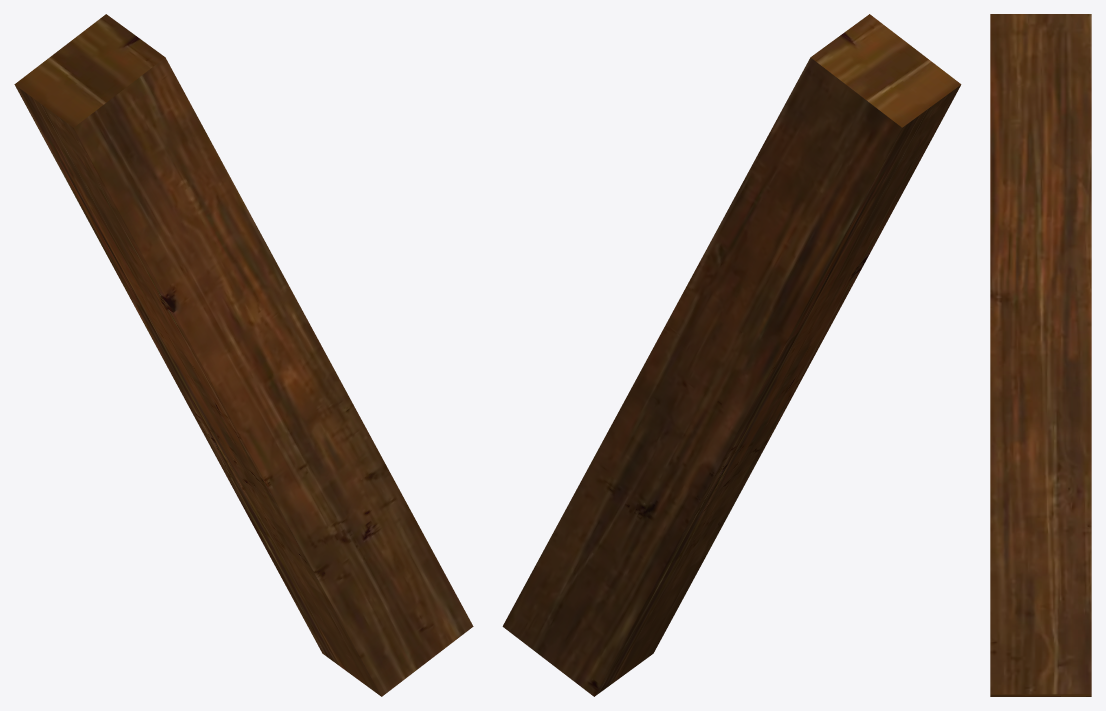
3 views of the same model, side by side, from view 1: azimuth 30°, elevation 25°; view 2: azimuth 150°, elevation 25°; view 3: azimuth 270°, elevation 25° (orthographic). The views are drawn at different scales.
Visible parts, largest first — view 1: SM_BB_T2_Beam_Thin_Med_Steep_LOD0; view 2: SM_BB_T2_Beam_Thin_Med_Steep_LOD0; view 3: SM_BB_T2_Beam_Thin_Med_Steep_LOD0.
Boxes of the visible parts, box(x1,y1,x2,y2) form: SM_BB_T2_Beam_Thin_Med_Steep_LOD0: box(14, 14, 473, 696); SM_BB_T2_Beam_Thin_Med_Steep_LOD0: box(502, 14, 961, 696); SM_BB_T2_Beam_Thin_Med_Steep_LOD0: box(990, 14, 1091, 696).
Size of the model in its own units: 0.9739 by 1.61 by 0.2503.
1 material, 1 textured.
